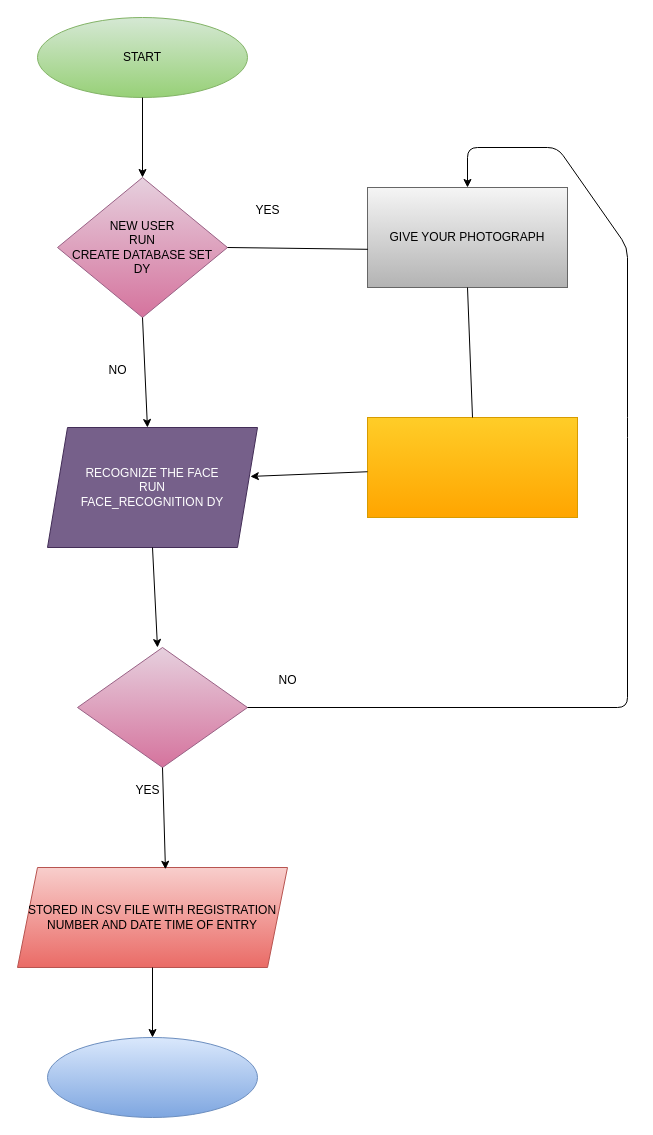
This 653x1135 diagram has some shape labels left out. The centre of each missing label's shape, as x and y in pixels:
END: pixel 152 1077
FACE RECOGNIZED: pixel 162 707
STORE THE FACE DATA IN FOLDER ON YOUR NAME: pixel 472 467
